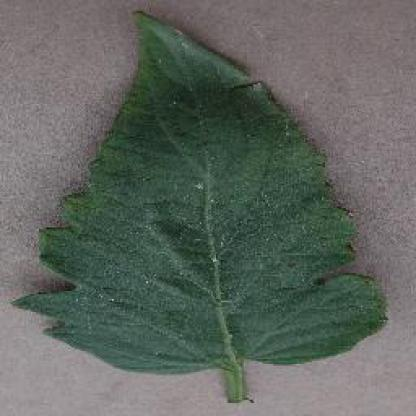good leaf: (99, 27, 312, 346)
